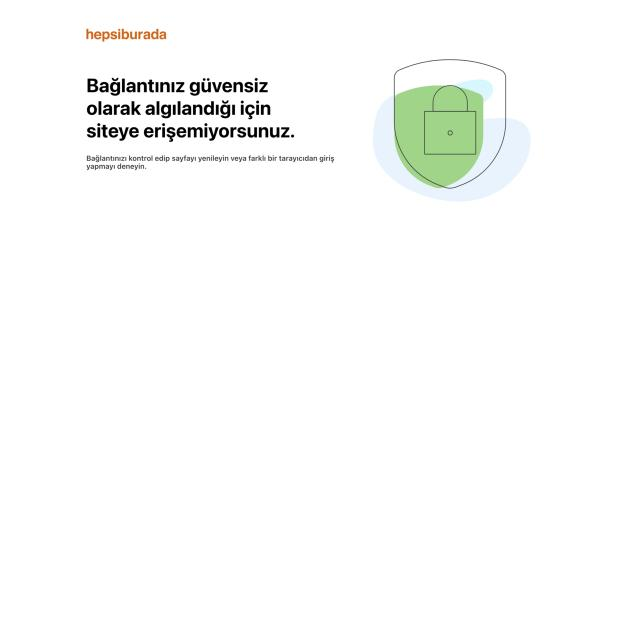logo: (82, 26, 168, 46)
